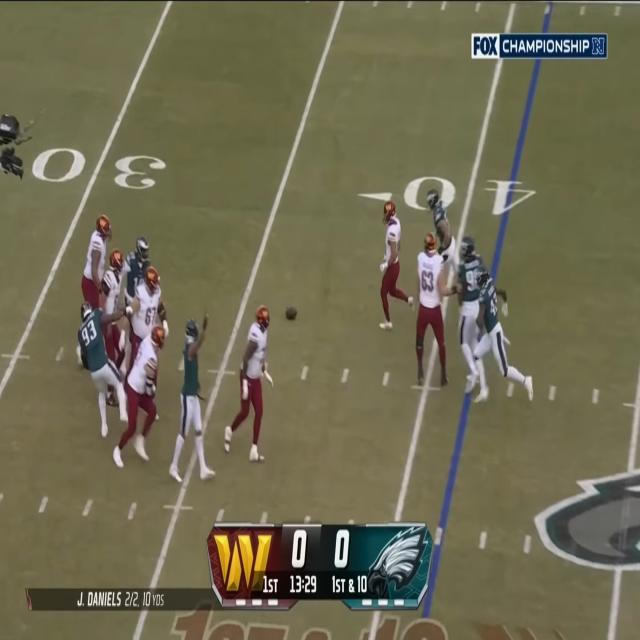Ball: (286, 306, 298, 321)
